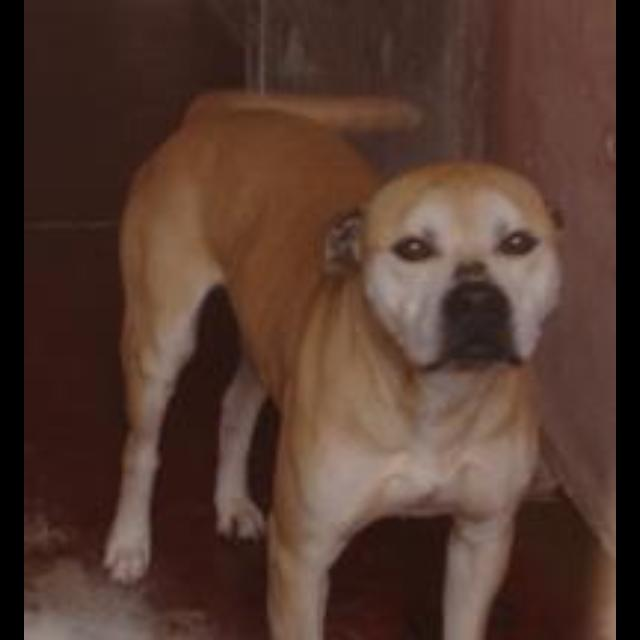amstaff: (99, 87, 573, 638)
